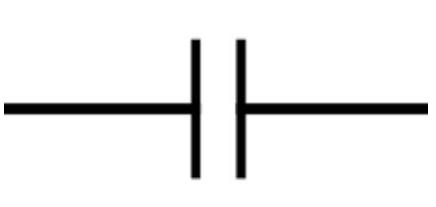Capacitor: (157, 37, 282, 183)
